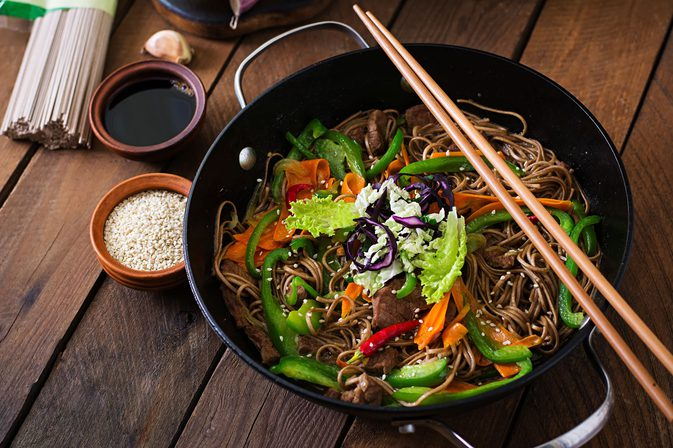Soba: (502, 102, 592, 198), (473, 264, 553, 347)
